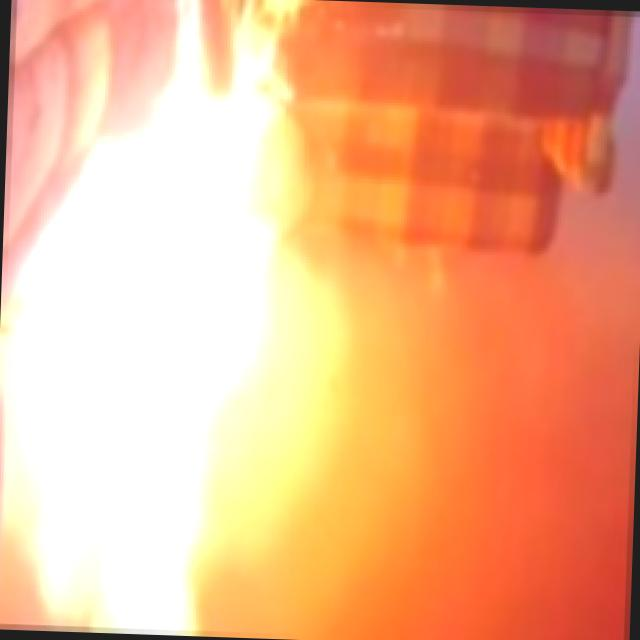fire: (0, 17, 342, 640)
